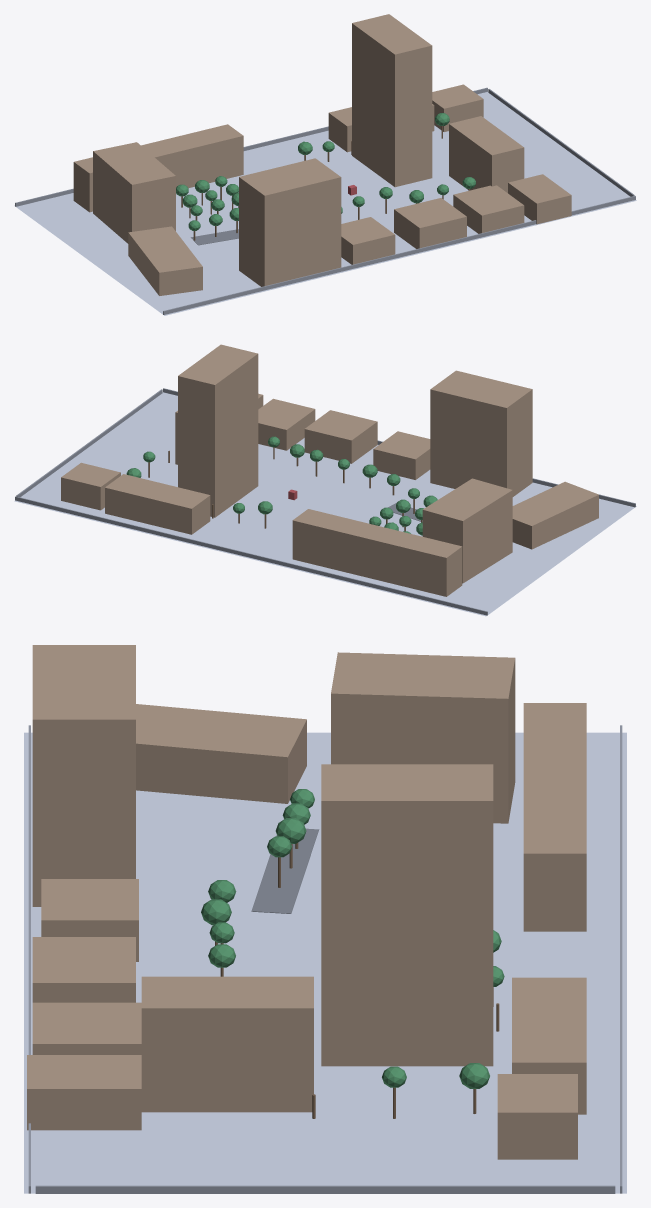
Rendered from campus_chinh_chieu_cao.glb.
3 renders of one model, top to bottom at view 1: azimuth 30°, elevation 25°; view 2: azimuth 150°, elevation 25°; view 3: azimuth 270°, elevation 25°, orthographic. The views are drawn at different scales.
Parts seen in each view (by area): view 1: Ground_Aerial, Buildings.007, Buildings.005, Buildings.003, Buildings, Buildings.010, Buildings.006, Buildings.012, Buildings.013, Buildings.014, Boundary_Walls.001, Buildings.011 (+5 smaller); view 2: Ground_Aerial, Buildings.007, Buildings.005, Buildings, Buildings.003, Buildings.001, Buildings.006, Buildings.012, Boundary_Walls, Buildings.011, Buildings.013, Buildings.002 (+2 smaller); view 3: Ground_Aerial, Buildings.007, Buildings.005, Buildings.010, Buildings.003, Buildings, Buildings.006, Buildings.014, Buildings.001, Buildings.002, Buildings.012, Buildings.013 (+5 smaller).
Boxes of the visible parts, x1,y1,x2,y2 form: Ground_Aerial: [14, 92, 636, 315]; Buildings.007: [352, 14, 432, 187]; Buildings.005: [239, 158, 341, 286]; Buildings.003: [93, 142, 175, 243]; Buildings: [73, 124, 243, 212]; Buildings.010: [449, 116, 524, 192]; Buildings.006: [128, 226, 202, 295]; Buildings.012: [394, 198, 466, 248]; Buildings.013: [453, 185, 524, 233]; Buildings.014: [508, 174, 571, 224]; Boundary_Walls.001: [163, 196, 635, 314]; Buildings.011: [341, 217, 395, 264]; Ground_Aerial: [14, 392, 636, 616]; Buildings.007: [178, 344, 258, 517]; Buildings.005: [430, 370, 532, 496]; Buildings: [292, 509, 462, 596]; Buildings.003: [422, 478, 512, 583]; Buildings.001: [105, 474, 210, 534]; Buildings.006: [512, 481, 598, 549]; Buildings.012: [304, 410, 377, 463]; Boundary_Walls: [15, 496, 487, 615]; Buildings.011: [373, 431, 430, 479]; Buildings.013: [258, 398, 315, 450]; Buildings.002: [61, 462, 120, 510]; Ground_Aerial: [24, 732, 626, 1193]; Buildings.007: [321, 764, 493, 1066]; Buildings.005: [32, 645, 135, 906]; Buildings.010: [141, 976, 313, 1112]; Buildings.003: [331, 652, 515, 823]; Buildings: [523, 703, 586, 931]; Buildings.006: [136, 704, 306, 803]; Buildings.014: [27, 1055, 141, 1130]; Buildings.001: [512, 977, 586, 1114]; Buildings.002: [497, 1074, 577, 1159]; Buildings.012: [32, 937, 135, 1002]; Buildings.013: [32, 1002, 141, 1054].
Size of the model in its own units: 190 by 51 by 105.
